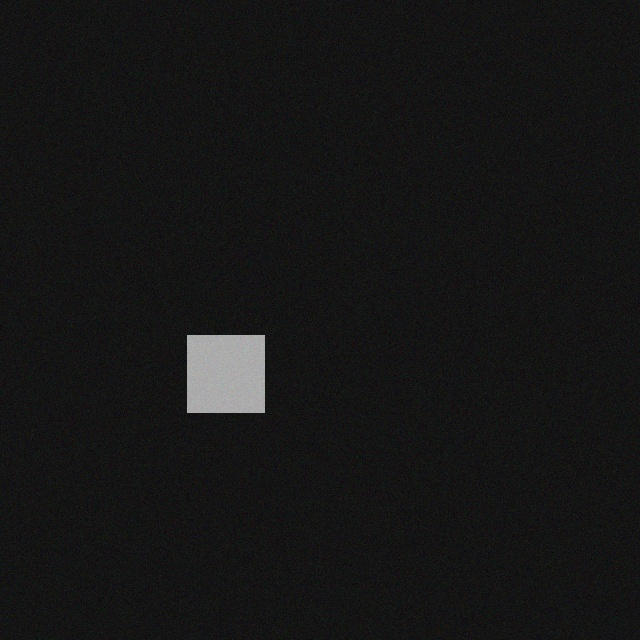square: (174, 336, 251, 413)
